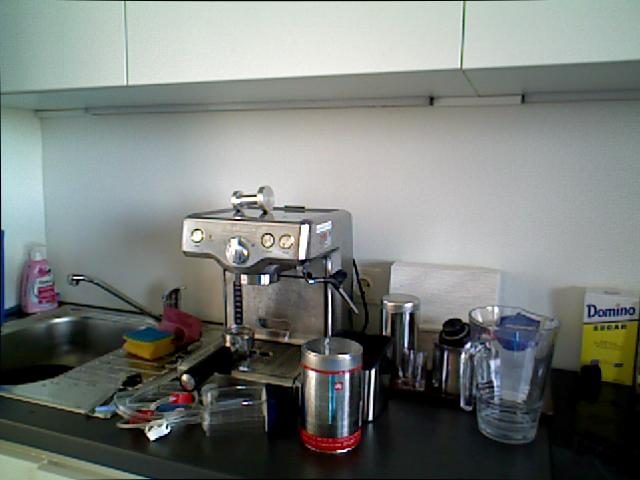bench: (18, 240, 61, 311)
couch: (0, 309, 159, 387)
handbag: (460, 302, 561, 444)
toilet: (84, 369, 144, 417)
